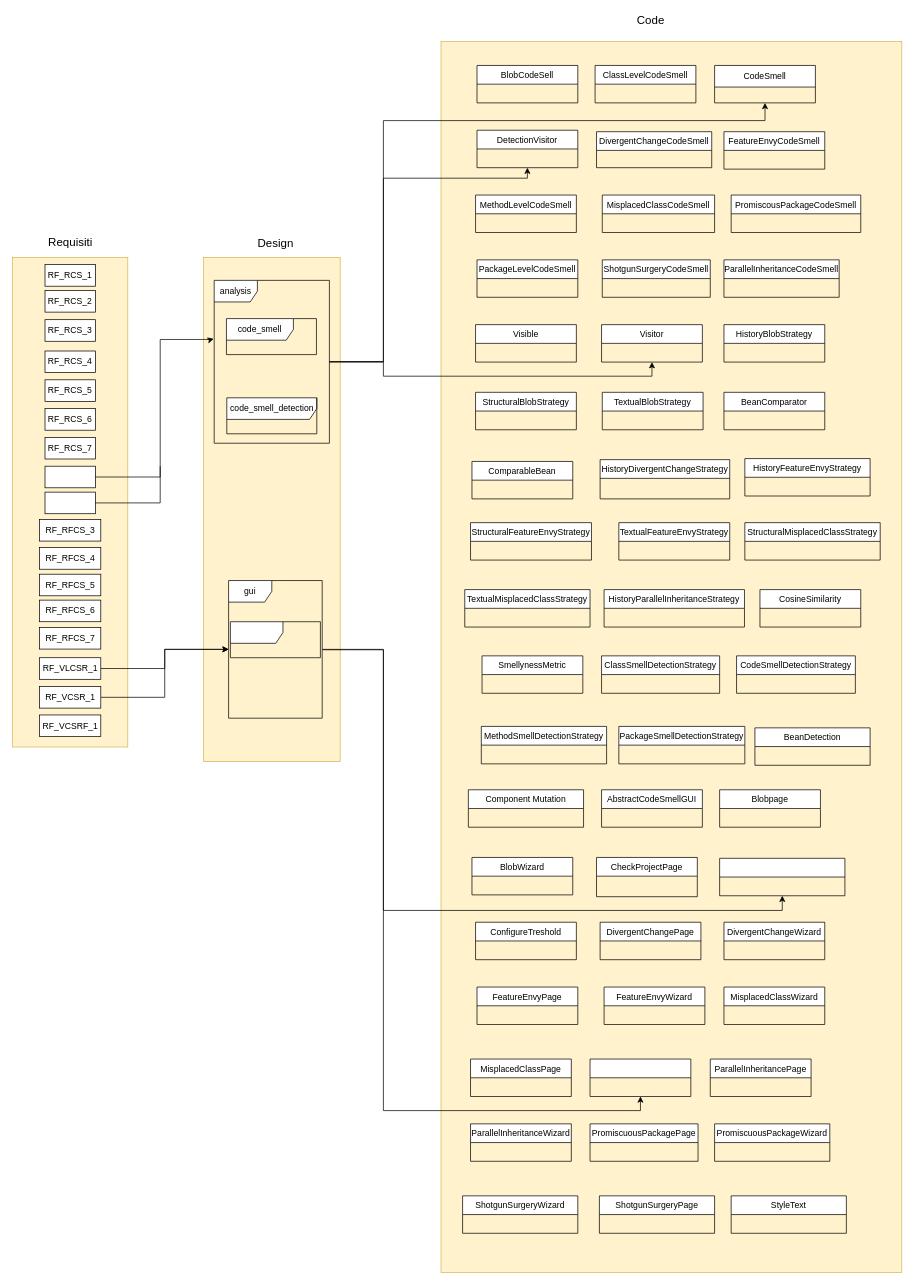
This 914x1285 diagram has some shape labels left out. The shapes that lost their labels are listed below. From the top down, each one's centre as x and y in pixels, then its label:
At (69,476): "RF_RCS_8".
At (69,502): "RF_RCS_9".
At (275,639): "radar".
At (782,877): "ClassSmellGUIAbstractFactory".
At (640,1077): "PageConcreteFactory".
